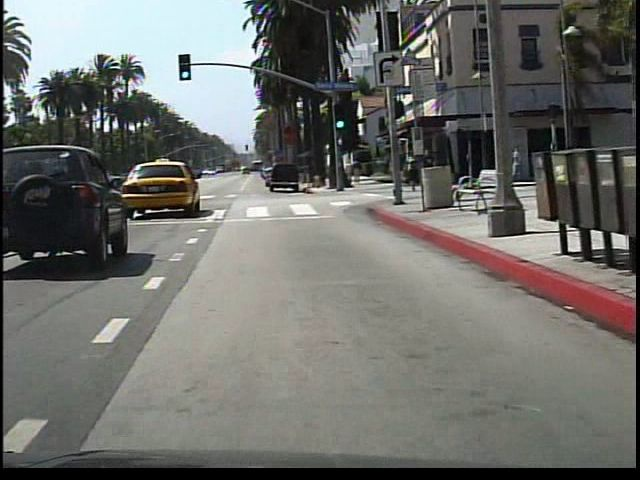person: (396, 148, 412, 196), (507, 142, 521, 182)
